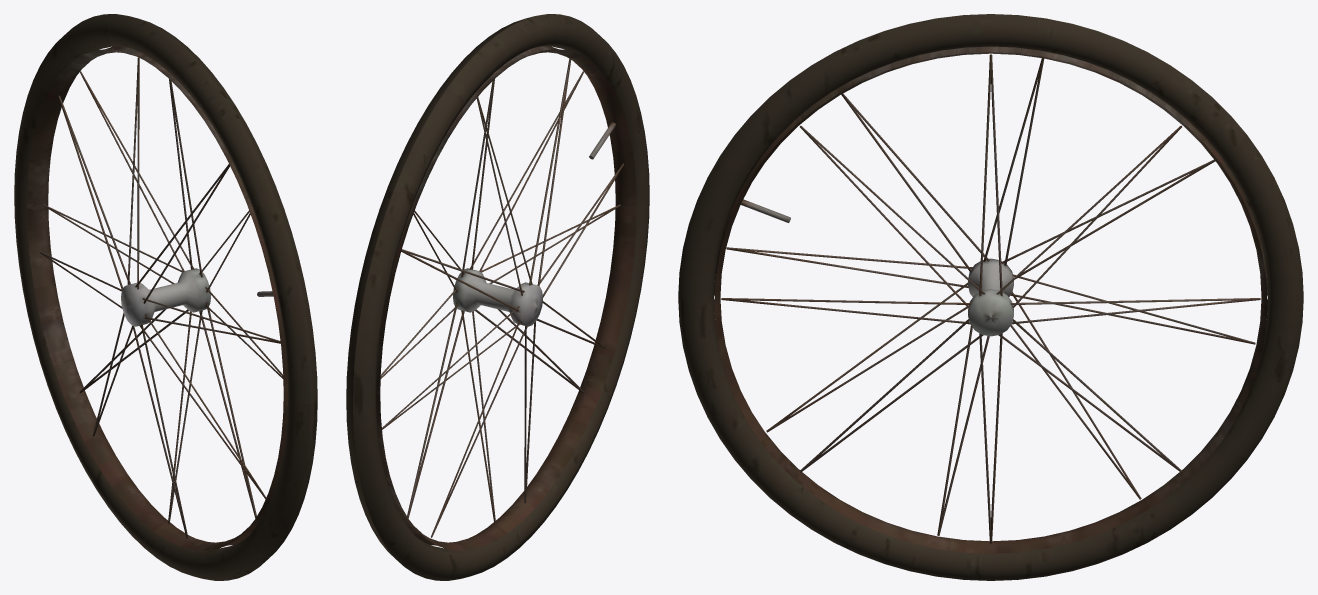
File: bicycle_wheel.glb
3 renders of one model, left to right at view 1: azimuth 30°, elevation 25°; view 2: azimuth 150°, elevation 25°; view 3: azimuth 270°, elevation 25°, orthographic. The views are drawn at different scales.
Visible parts, largest first — view 1: bicycle_wheel; view 2: bicycle_wheel; view 3: bicycle_wheel.
Part boxes in pixels (x1=…): bicycle_wheel: x1=14, y1=14, x2=317, y2=580; bicycle_wheel: x1=346, y1=14, x2=649, y2=580; bicycle_wheel: x1=678, y1=14, x2=1303, y2=580.
Size of the model in its own units: 0.11 by 0.7065 by 0.7065.
1 material, 1 textured.
